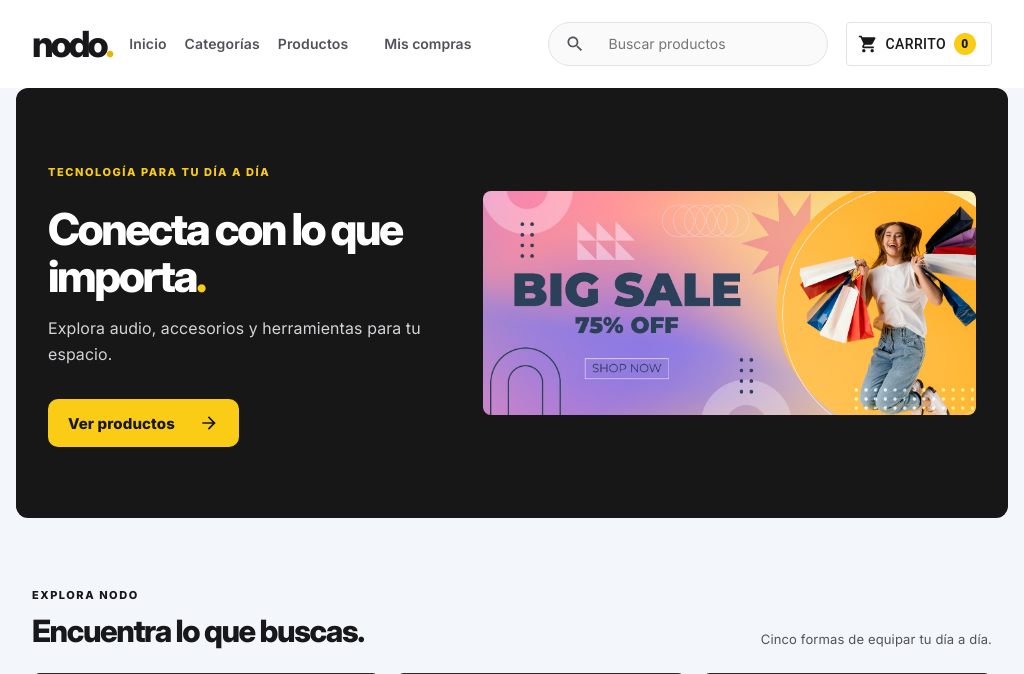
conecta catálogo, compra, resumen y resultado con Redux sin pagar por montaje
Later steps or results of the test are not shown.
Click the button "Mis compras" at (428, 44), box [366,21,489,67]
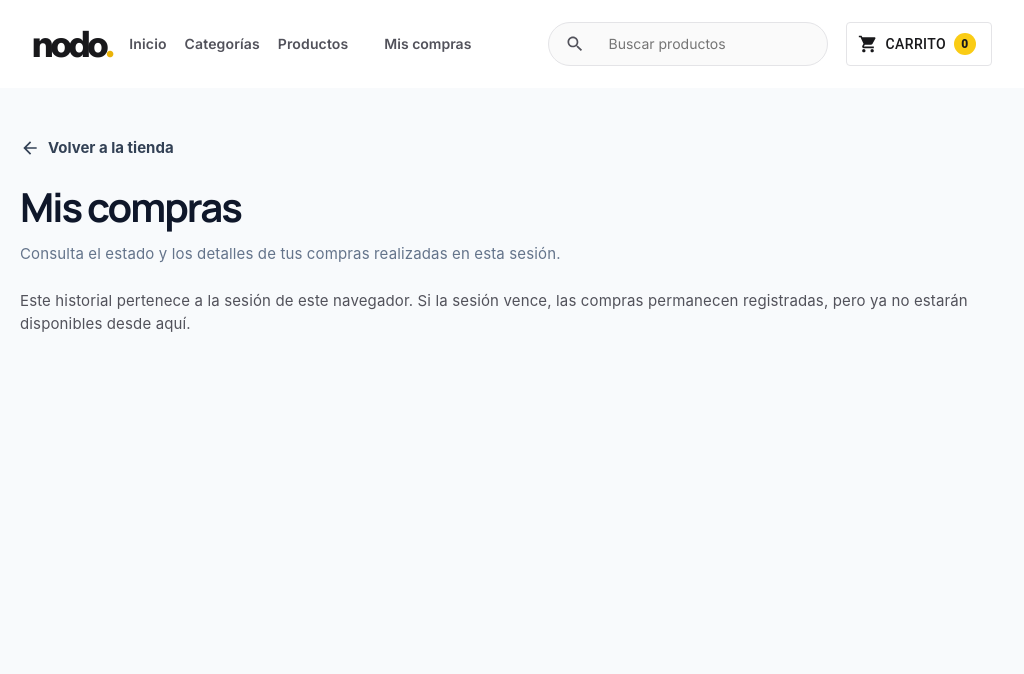
Expected: the heading "Mis compras" is shown, [20,183,241,234]
